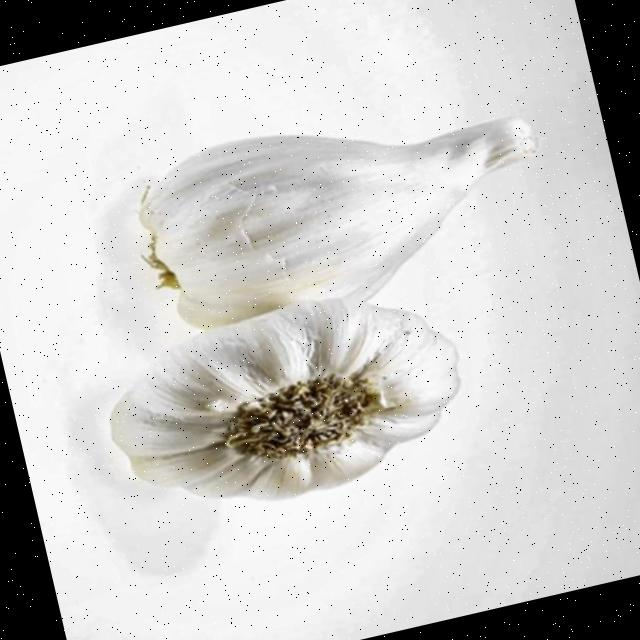garlic: (141, 117, 535, 328), (110, 299, 457, 499)
